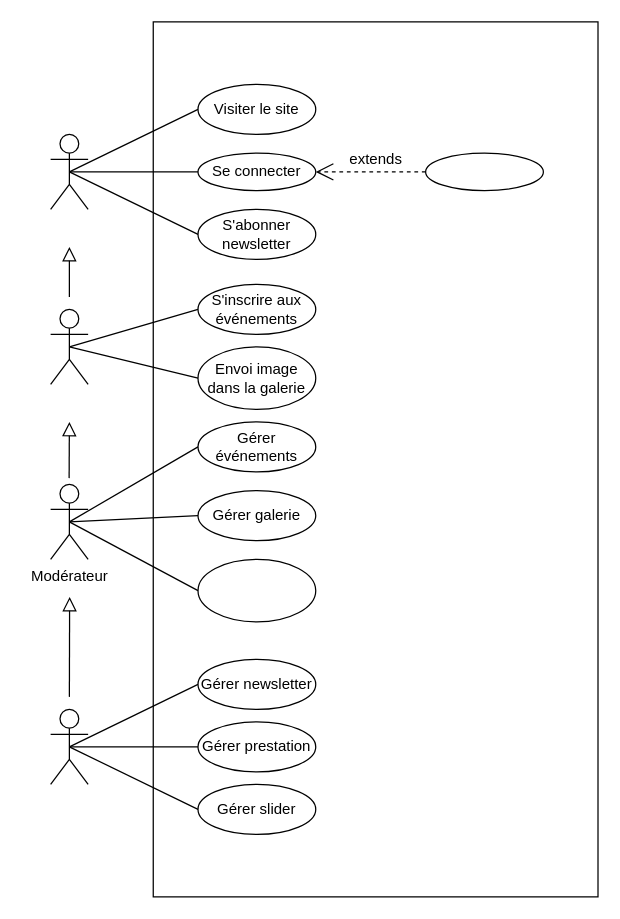
Image size: 620x919. Some labels were removed from this diagram. The shapes that lost their labels are listed below. From the top down, each one's box as (x1, y1, x2, y2) in pixels, then its label:
(49, 133, 88, 209): Visiteur
(424, 152, 543, 191): S'inscrire
(49, 308, 88, 384): Membre
(197, 558, 316, 622): Publier événements
(49, 708, 88, 784): Administrateur
